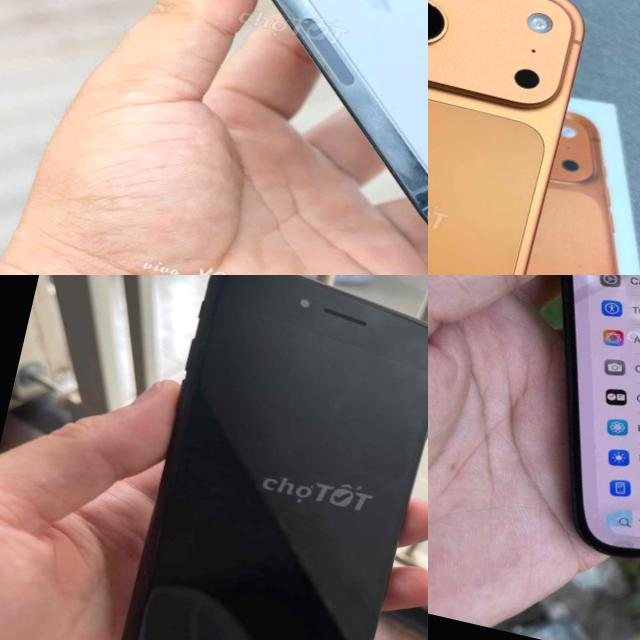gen_12_13: (17, 0, 428, 273)
gen_15: (437, 275, 640, 607)
gen_17: (428, 0, 602, 275)
gen_7_8: (107, 275, 428, 640)
